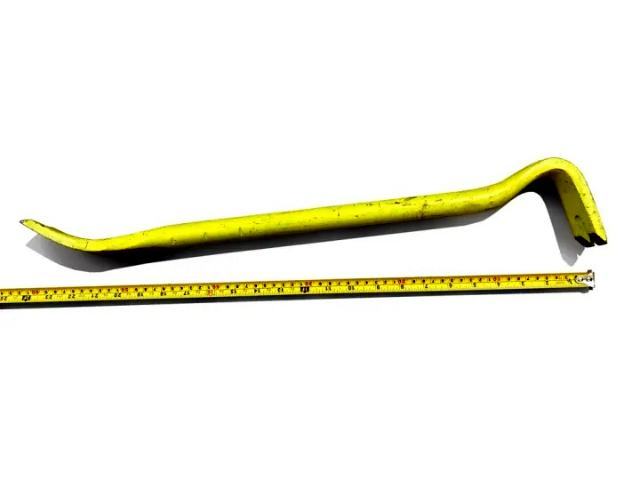crow bar: (12, 150, 614, 258)
